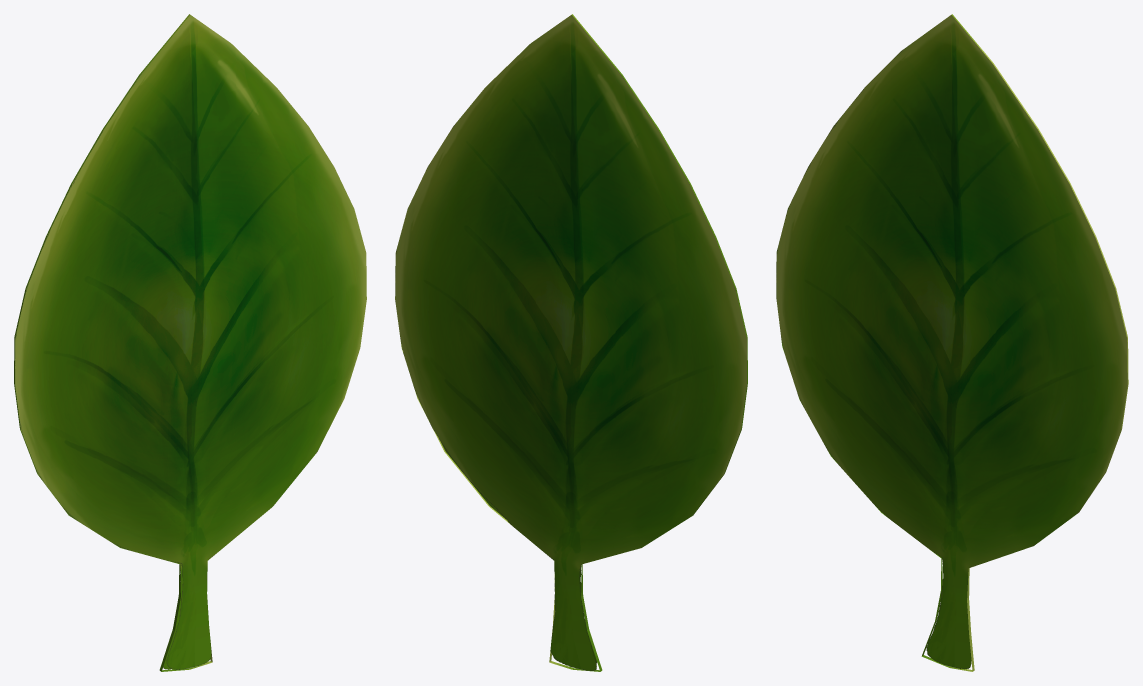
The model's file is Leaf_MDL_01.fbx.
3 renders of one model, left to right at view 1: azimuth 30°, elevation 25°; view 2: azimuth 150°, elevation 25°; view 3: azimuth 330°, elevation 25°, orthographic.
Parts seen in each view (by area): view 1: Leaf_MDL; view 2: Leaf_MDL; view 3: Leaf_MDL.
Boxes of the visible parts, bbox=[...] form: Leaf_MDL: bbox=[14, 14, 366, 671]; Leaf_MDL: bbox=[395, 14, 747, 671]; Leaf_MDL: bbox=[776, 14, 1128, 671].
Bounding box in the file's own units: 6.36 × 11.31 × 0.0654.
